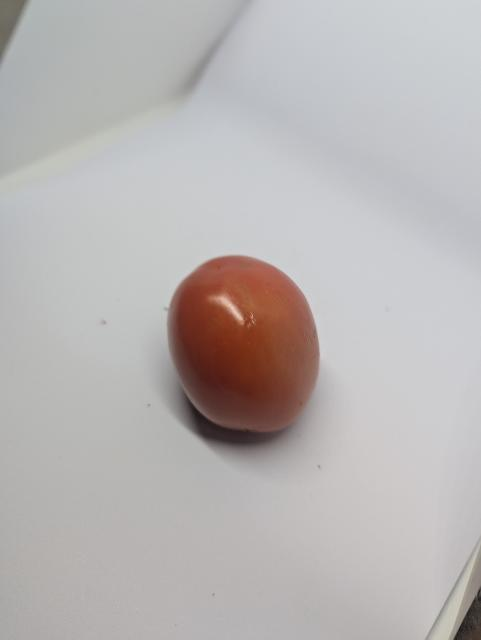red: (158, 251, 326, 439)
